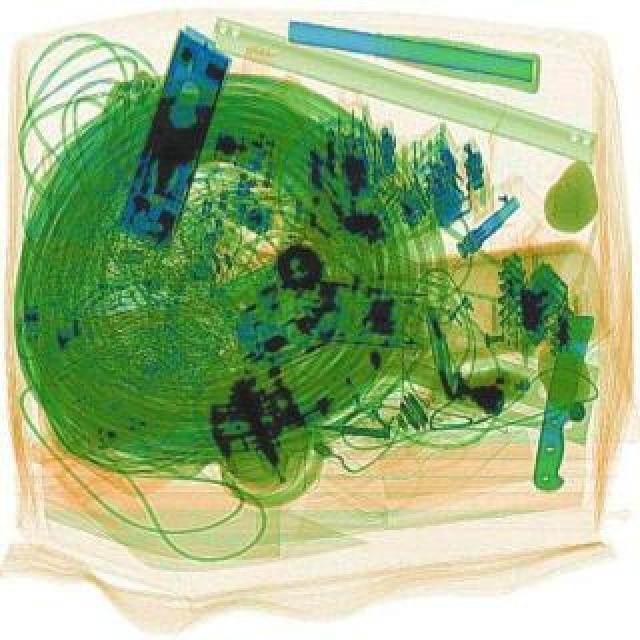knife: (532, 310, 594, 490)
